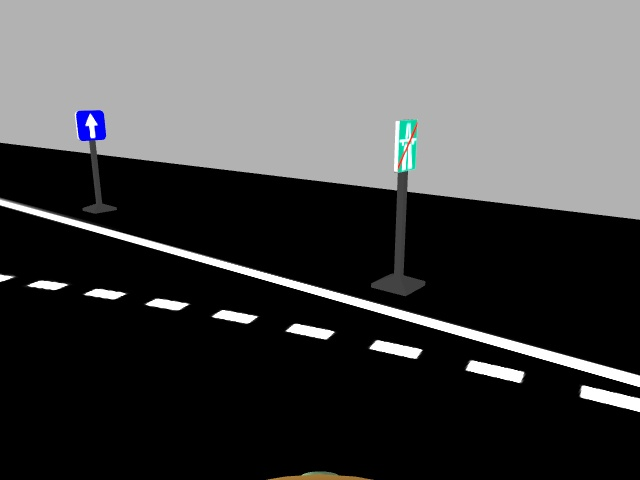HighwayExit: (393, 120, 417, 172)
OneWay: (71, 110, 107, 141)
